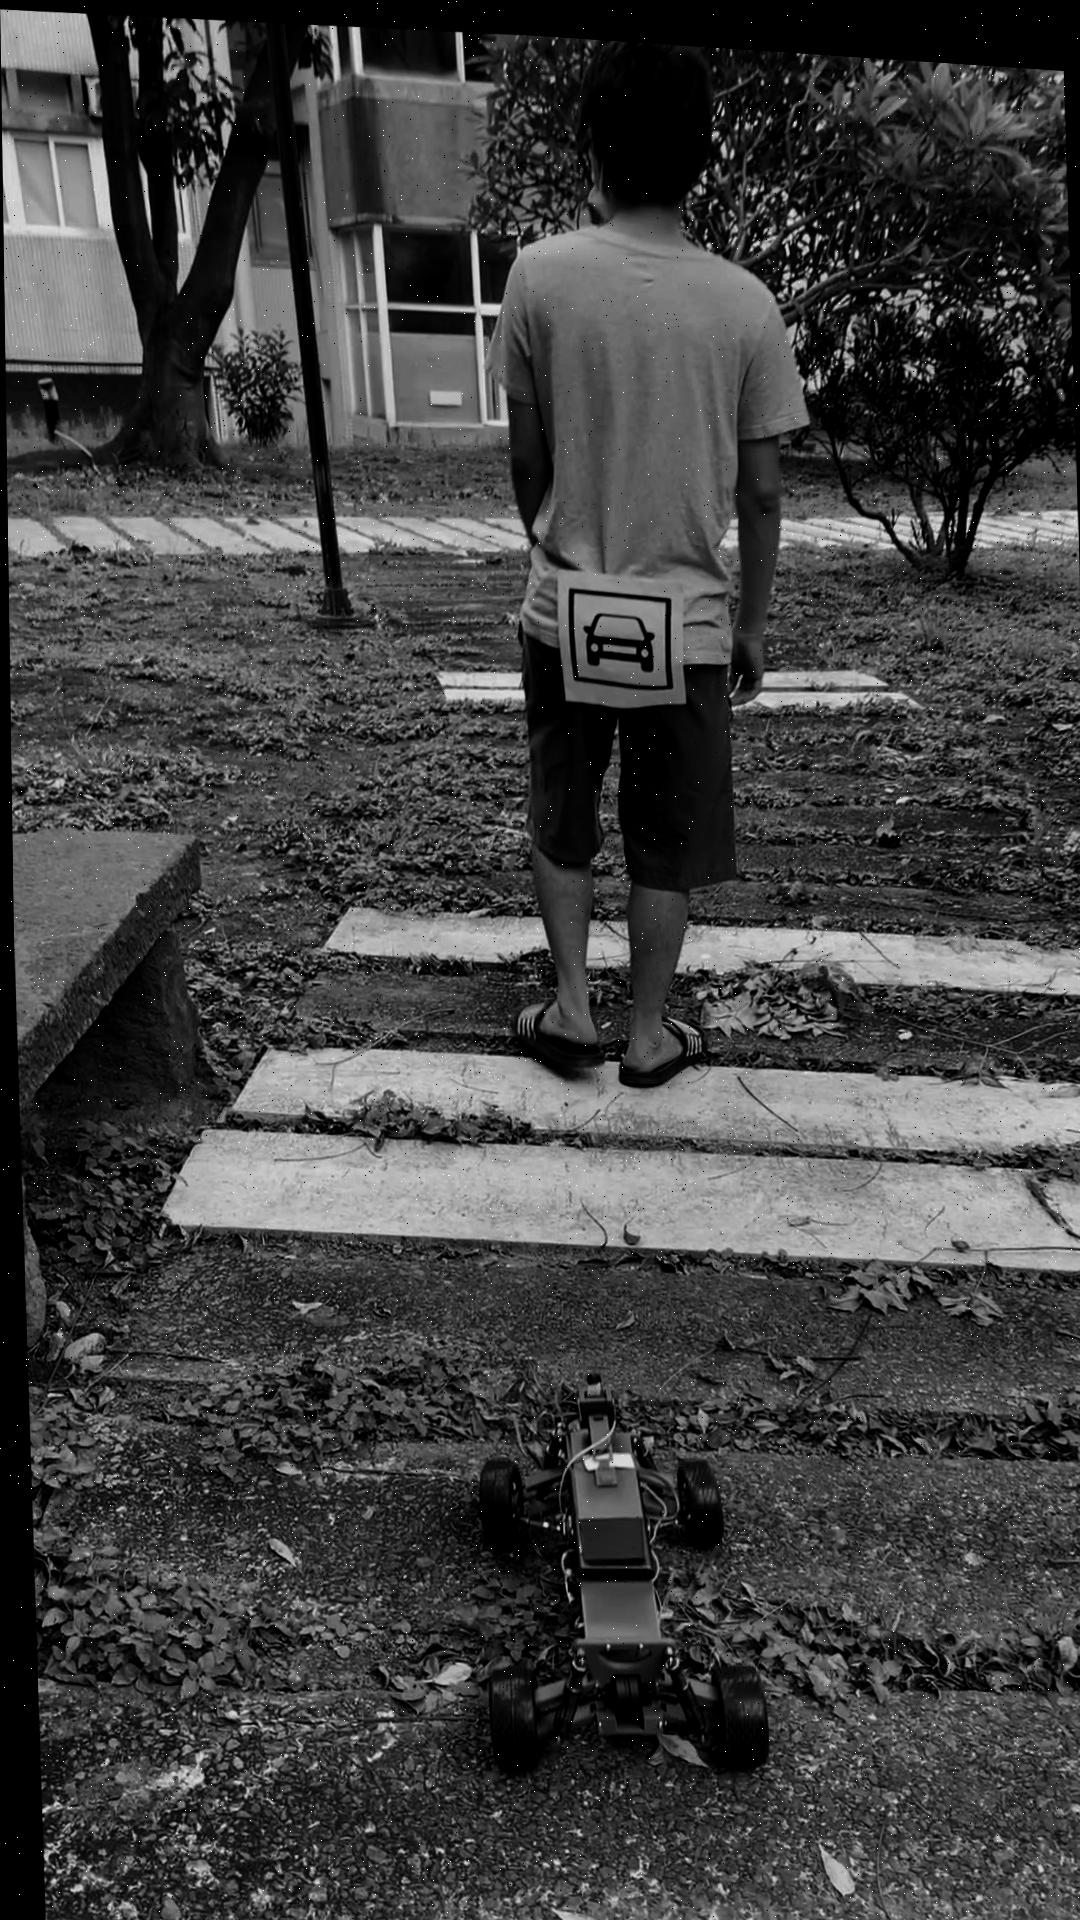car_img: (566, 578, 673, 684)
